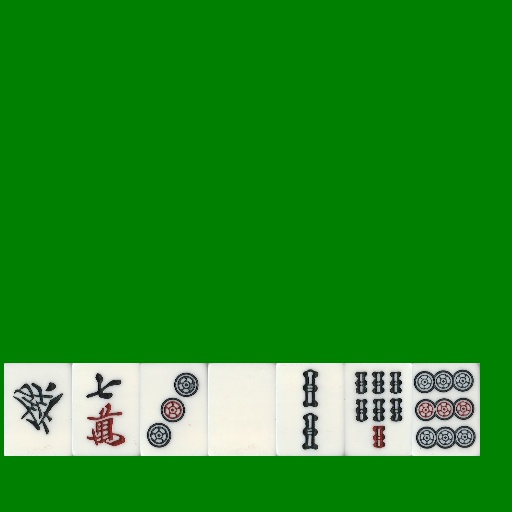2s: (276, 363, 344, 456)
3p: (140, 363, 208, 456)
7m: (72, 363, 140, 456)
7s: (344, 363, 412, 456)
9p: (412, 363, 480, 456)
hatsu: (4, 363, 72, 456)
white: (208, 363, 276, 456)
